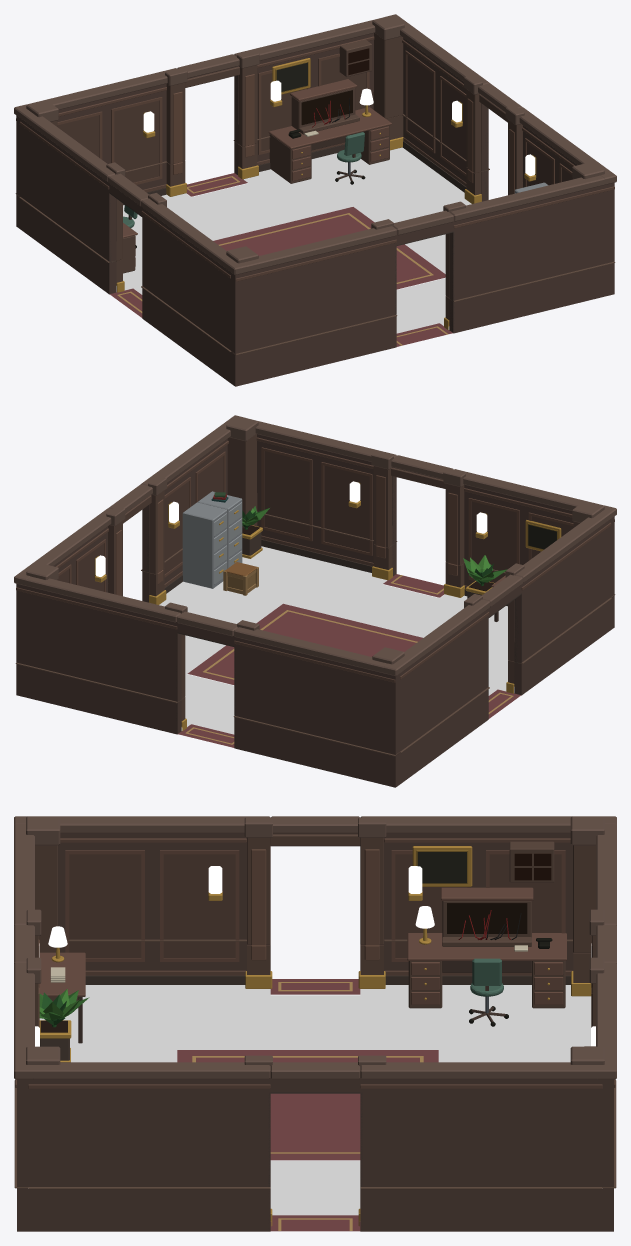
File: switchboard.glb
3 views of the same model, one above another, from view 1: azimuth 30°, elevation 25°; view 2: azimuth 150°, elevation 25°; view 3: azimuth 270°, elevation 25° (orthographic). The views are drawn at different scales.
Visible parts, largest first — view 1: static, floor, W_south_0_up, W_south_1_up, W_north_1_up, W_north_0_up, W_west_0_up, W_west_1_up, W_east_0_up, W_east_1_up; view 2: static, floor, W_north_0_up, W_north_1_up, W_south_1_up, W_south_0_up, W_west_0_up, W_west_1_up, W_east_1_up, W_east_0_up; view 3: static, floor, W_east_0_up, W_east_1_up, W_west_1_up, W_west_0_up, W_north_0_up, W_south_0_up, W_north_1_up, W_south_1_up.
Part boxes in pixels (x1,y1,x2,y2): static: (15, 79, 615, 386); floor: (110, 147, 471, 346); W_south_0_up: (226, 210, 453, 353); W_south_1_up: (443, 162, 616, 300); W_north_1_up: (234, 15, 404, 146); W_north_0_up: (14, 54, 239, 196); W_west_0_up: (14, 104, 148, 262); W_west_1_up: (141, 193, 246, 350); W_east_0_up: (385, 14, 522, 173); W_east_1_up: (505, 105, 616, 195); static: (15, 491, 615, 787); floor: (159, 546, 520, 747); W_north_0_up: (177, 611, 404, 754); W_north_1_up: (14, 563, 187, 701); W_south_1_up: (226, 416, 396, 547); W_south_0_up: (391, 455, 616, 597); W_west_0_up: (384, 574, 522, 751); W_west_1_up: (505, 505, 616, 662); W_east_1_up: (141, 415, 245, 574); W_east_0_up: (14, 484, 152, 596); static: (14, 887, 616, 1231); floor: (39, 979, 591, 1231); W_east_0_up: (270, 1055, 616, 1186); W_east_1_up: (14, 1055, 272, 1186); W_west_1_up: (14, 816, 272, 945); W_west_0_up: (270, 816, 616, 945); W_north_0_up: (570, 816, 616, 987); W_south_0_up: (14, 816, 60, 987); W_north_1_up: (570, 957, 616, 1186); W_south_1_up: (14, 957, 60, 1186).
Bounding box in the file's own units: 8.08 × 2.48 × 8.08.
